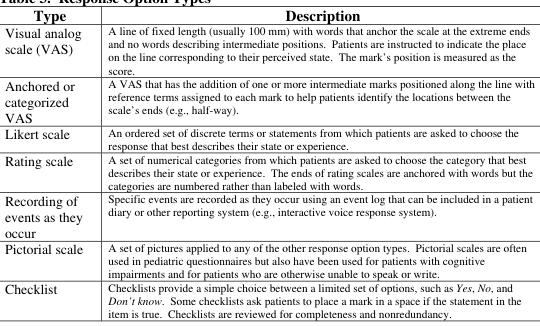table: (3, 4, 534, 320)
table column: (94, 4, 534, 320), (3, 4, 94, 320)
table column header: (3, 4, 534, 23)
table row: (3, 23, 534, 75), (3, 75, 534, 124), (3, 191, 534, 239), (3, 279, 534, 320), (3, 151, 534, 191), (3, 239, 534, 279), (3, 124, 534, 151), (3, 4, 534, 23)
